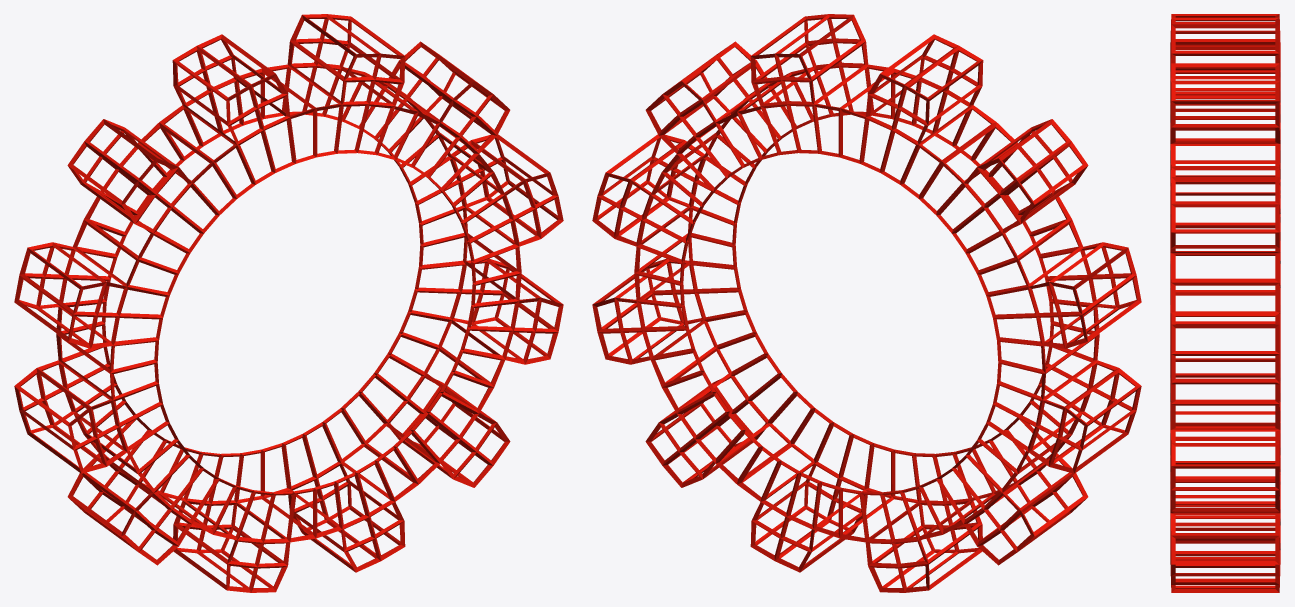
File: gearWireframe.glb
3 views of the same model, side by side, from view 1: azimuth 30°, elevation 25°; view 2: azimuth 150°, elevation 25°; view 3: azimuth 270°, elevation 25° (orthographic).
Visible parts, largest first — view 1: Gear; view 2: Gear; view 3: Gear.
Boxes of the visible parts, x1=… form: Gear: x1=14, y1=14, x2=563, y2=592; Gear: x1=592, y1=14, x2=1141, y2=592; Gear: x1=1170, y1=14, x2=1280, y2=592.
Bounding box in the file's own units: 2.19 × 2.19 × 0.42.
